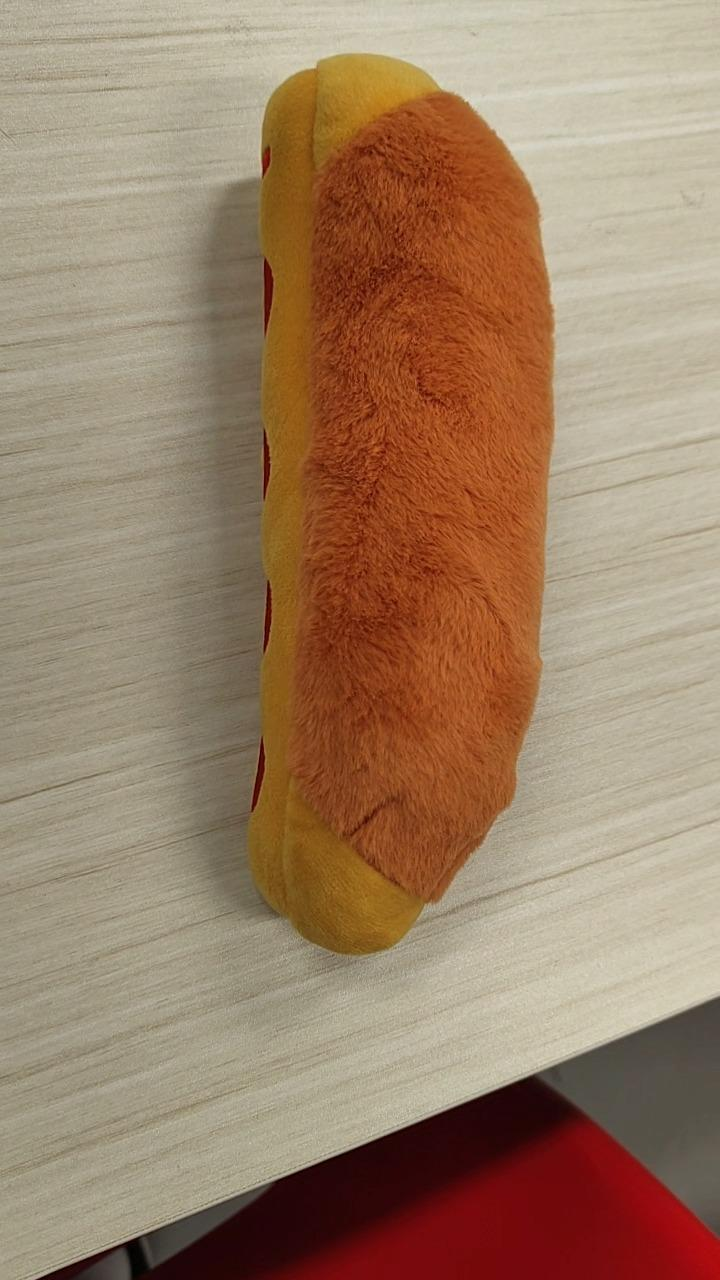hotdog: (245, 51, 556, 956)
